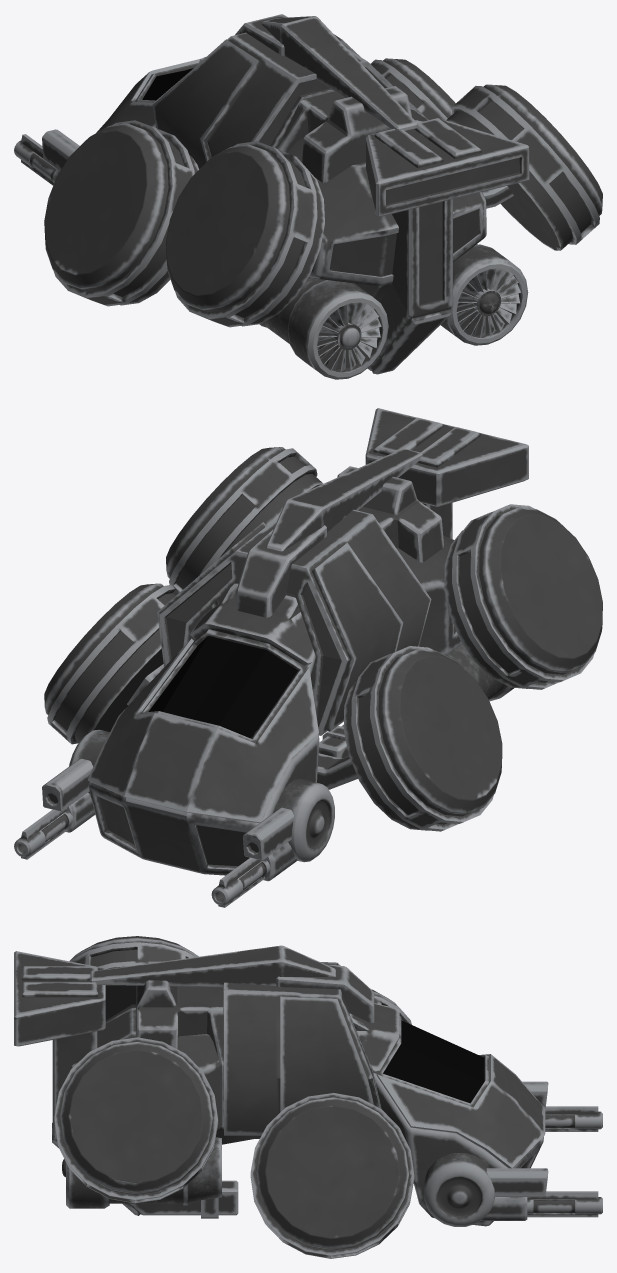
Rendered from feichuan.obj.
3 renders of one model, top to bottom at view 1: azimuth 30°, elevation 25°; view 2: azimuth 150°, elevation 25°; view 3: azimuth 270°, elevation 25°, orthographic. The views are drawn at different scales.
Visible parts, largest first — view 1: ??; view 2: ??; view 3: ??.
Boxes of the visible parts, x1,y1,x2,y2 form: ??: [14, 14, 602, 379]; ??: [14, 408, 602, 907]; ??: [14, 936, 602, 1258].
Bounding box in the file's own units: 201 × 133 × 273.
